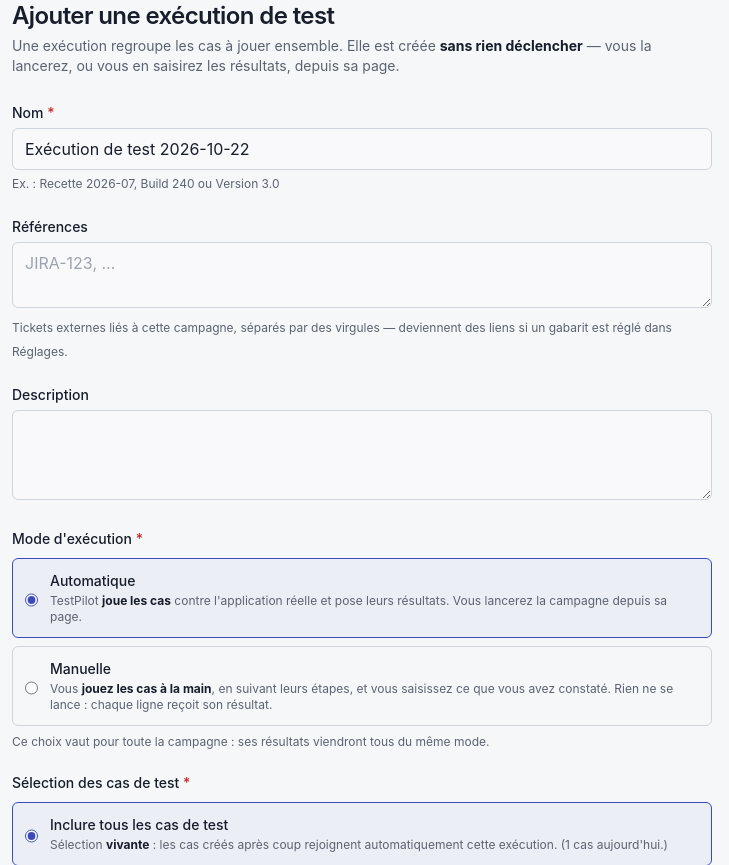
Test: AddTestRunForm — une exécution automatique ne propose que les cas dotés d'un test technique › en automatique, le cas sans test technique n'est pas proposé dans la sélection
The width and height of the screenshot is (729, 865).
Replace the text in the field labelled "Nom * Ex. : Recette 2026-07, Build 240 ou Version 3.0" with "Campagne": (362, 149) 12,128 -> 712,170
(page scrolled)
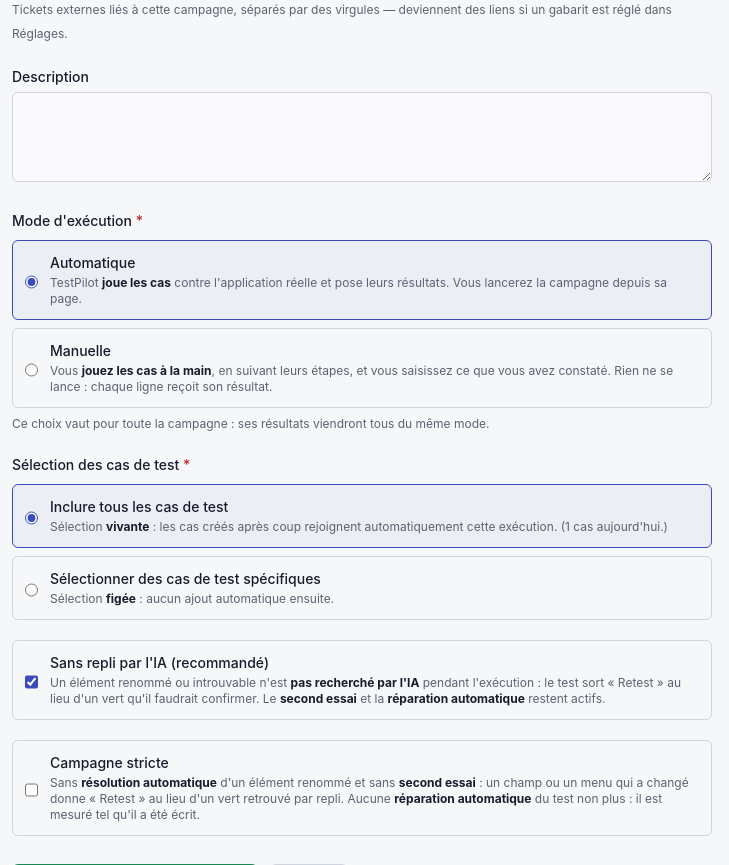
Click the 4th radio button: (32, 590) 25,573 -> 38,607
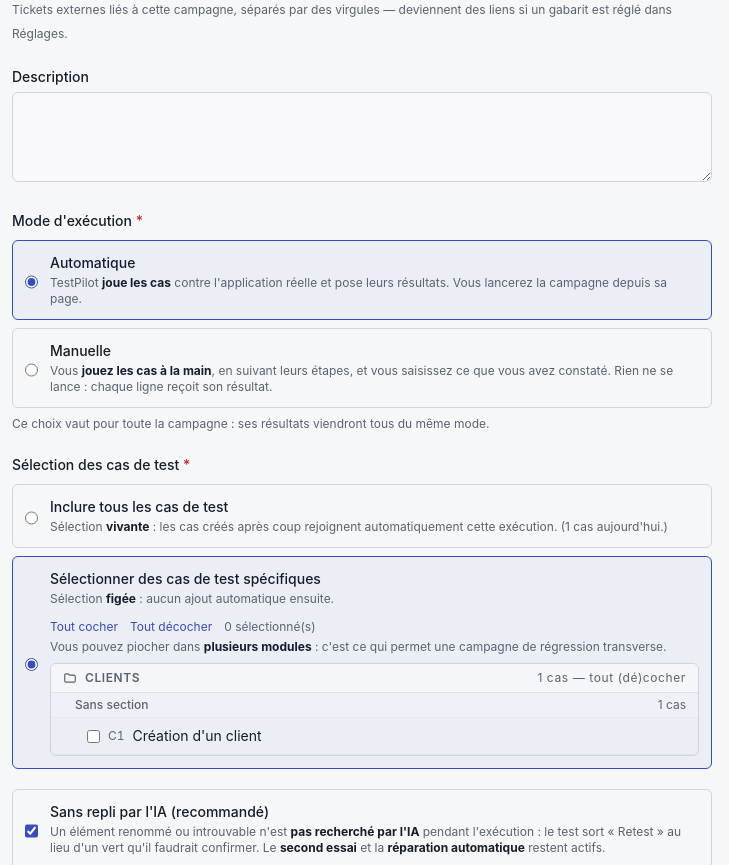
Check: the text "Création d'un client" is shown, box 132,726 -> 262,746
